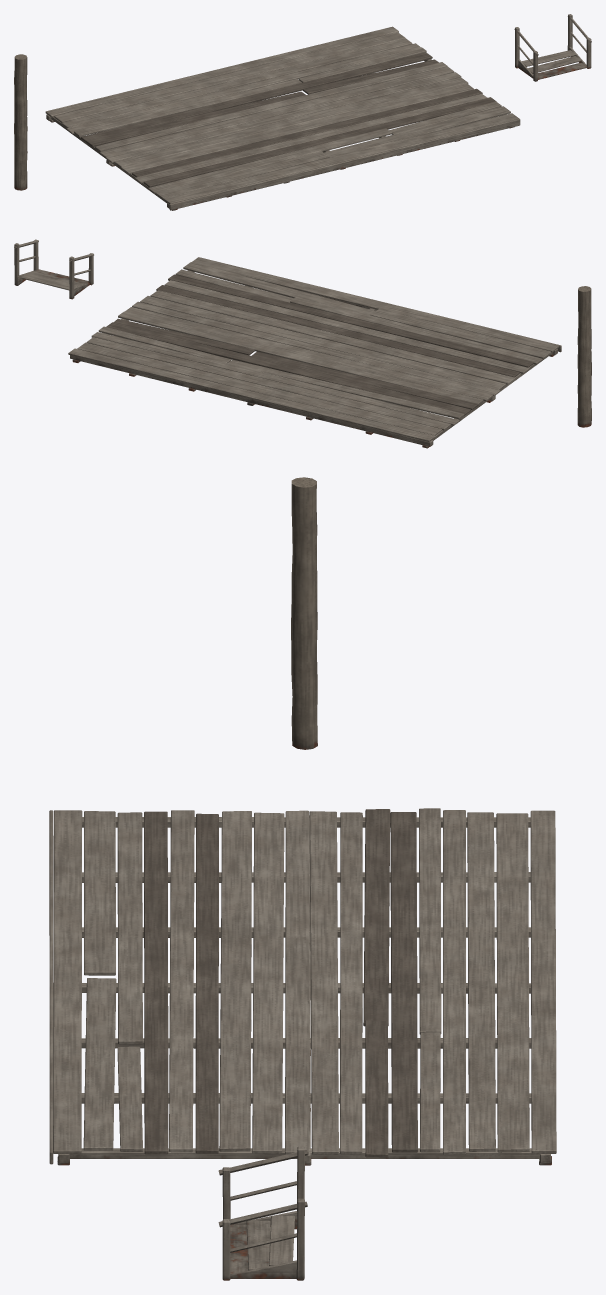
The model's file is ShackPorchKit.fbx.
3 renders of one model, top to bottom at view 1: azimuth 30°, elevation 25°; view 2: azimuth 150°, elevation 25°; view 3: azimuth 270°, elevation 25°, orthographic. The views are drawn at different scales.
Parts seen in each view (by area): view 1: PorchDeck, PorchSteps, WoodenPillar; view 2: PorchDeck, WoodenPillar, PorchSteps; view 3: PorchDeck, PorchSteps, WoodenPillar.
Part boxes in pixels (bbox=[...]): PorchDeck: bbox=[45, 26, 520, 210]; PorchSteps: bbox=[514, 14, 591, 81]; WoodenPillar: bbox=[14, 54, 27, 190]; PorchDeck: bbox=[68, 257, 561, 448]; WoodenPillar: bbox=[577, 286, 591, 427]; PorchSteps: bbox=[14, 239, 93, 299]; PorchDeck: bbox=[49, 808, 556, 1165]; PorchSteps: bbox=[218, 1146, 307, 1280]; WoodenPillar: bbox=[291, 477, 317, 749].
Size of the model in its own units: 1432 by 323 by 565.
1 material, 1 textured.
